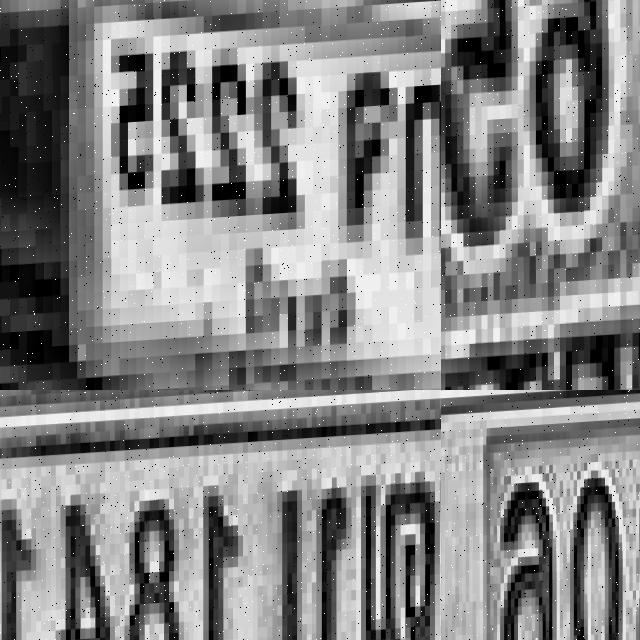license-plate: (55, 0, 441, 390), (0, 390, 441, 640), (441, 0, 640, 390), (441, 390, 640, 640)
